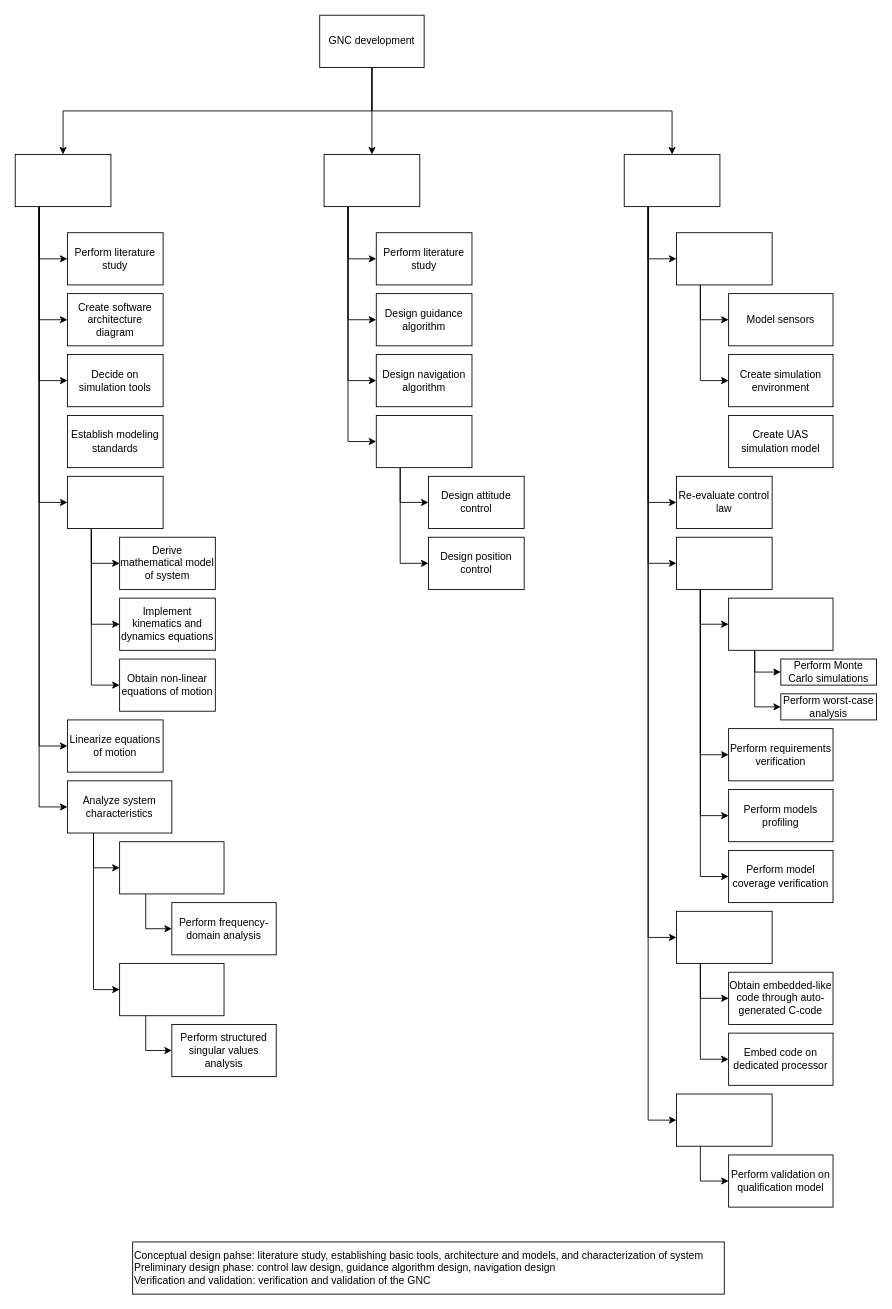
Image size: 892x1309. Some labels were removed from this diagram. The centre of each missing label's shape, as x and y in pixels:
Analyze performance robustness characteristics: point (171, 989)
Analyze stability characteristics: point (171, 867)
Conceptual Design Phase: point (62, 180)
Design control algorithm: point (423, 441)
Develop hardware-in-the-loop procedures: point (724, 1119)
Develop high-fidelity simulation: point (724, 258)
Develop software/ processor-in-the-loop procedures: point (724, 937)
Model system: point (115, 502)
Perform algorithm verification: point (780, 623)
Perform model-in-the-loop procedures: point (724, 562)
Preliminary Design Phase: point (371, 180)
Verification and Validation Phase: point (671, 180)
